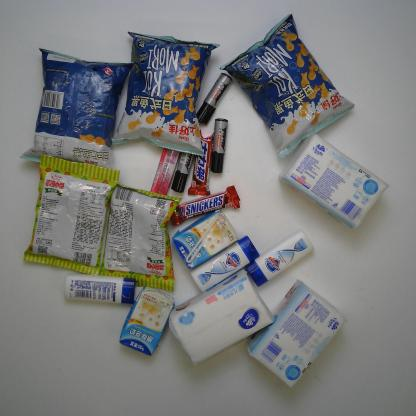Candy: (150, 148, 180, 196)
Chocolate: (170, 184, 241, 226), (187, 129, 215, 196)
Milk: (119, 285, 176, 357), (172, 210, 238, 270)
Personal Hygiene: (245, 228, 316, 288), (189, 235, 261, 293), (64, 272, 136, 304)
Puffed Food: (218, 12, 356, 160), (111, 30, 221, 158), (19, 48, 135, 169), (22, 154, 121, 275), (98, 182, 185, 292)
Stationery: (196, 72, 233, 126), (210, 118, 229, 173), (170, 152, 194, 194)
Tissue: (245, 277, 348, 389), (278, 133, 390, 230), (169, 268, 275, 366)
